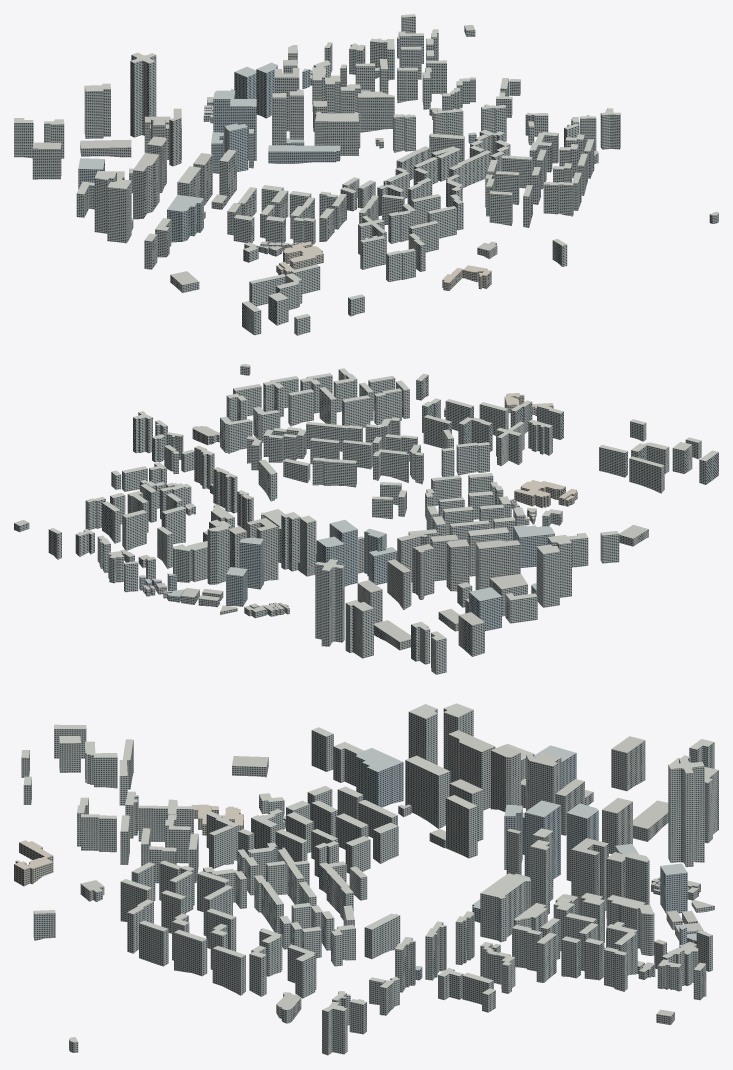
Rendered from city_-6_0.glb.
3 renders of one model, top to bottom at view 1: azimuth 30°, elevation 25°; view 2: azimuth 150°, elevation 25°; view 3: azimuth 270°, elevation 25°, orthographic. The views are drawn at different scales.
Size of the model in its own units: 1024 by 156 by 1034.
4 materials, 4 textured.
